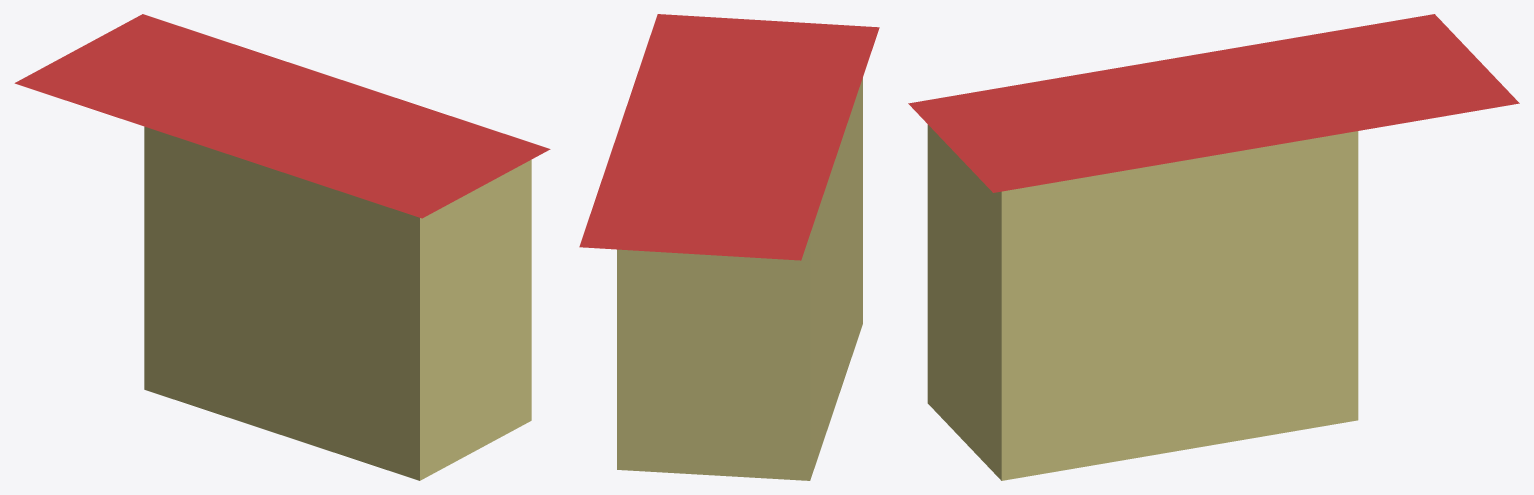
3 views of the same model, side by side, from view 1: azimuth 30°, elevation 25°; view 2: azimuth 150°, elevation 25°; view 3: azimuth 270°, elevation 25° (orthographic). The views are drawn at different scales.
Size of the model in its own units: 7.07 by 10.21 by 5.45.
